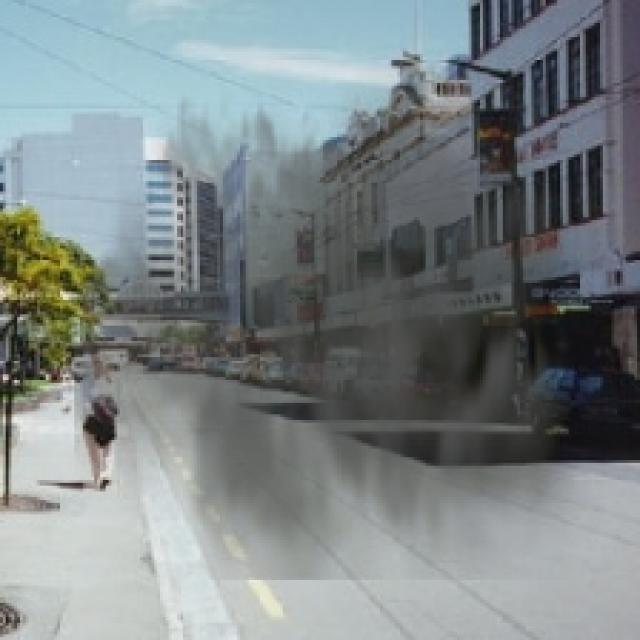smoke: (74, 46, 606, 580)
